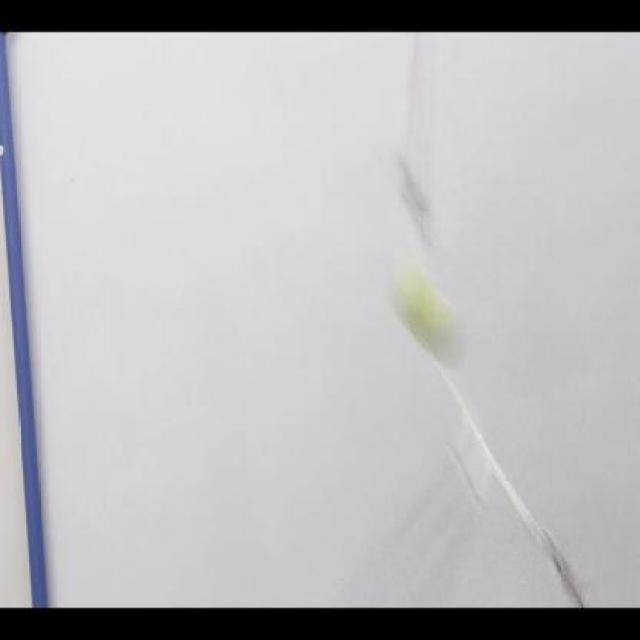baseball: (395, 269, 467, 360)
